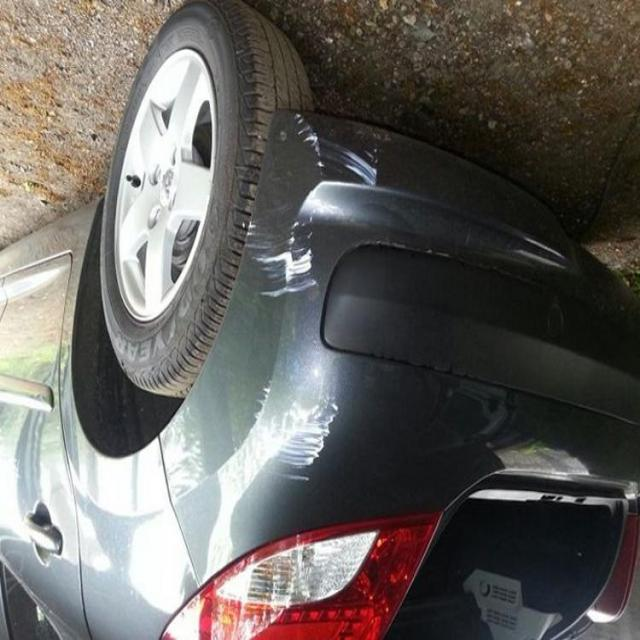scratch: (227, 106, 406, 326), (246, 378, 352, 484)
